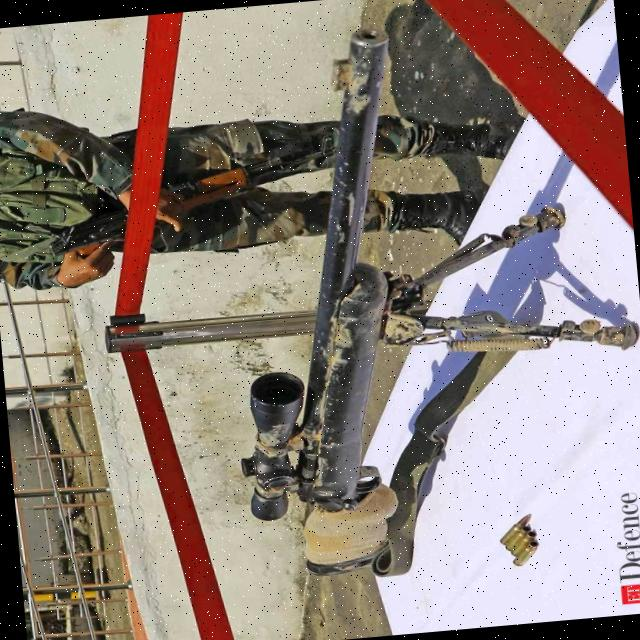Sniper: (213, 34, 445, 564)
